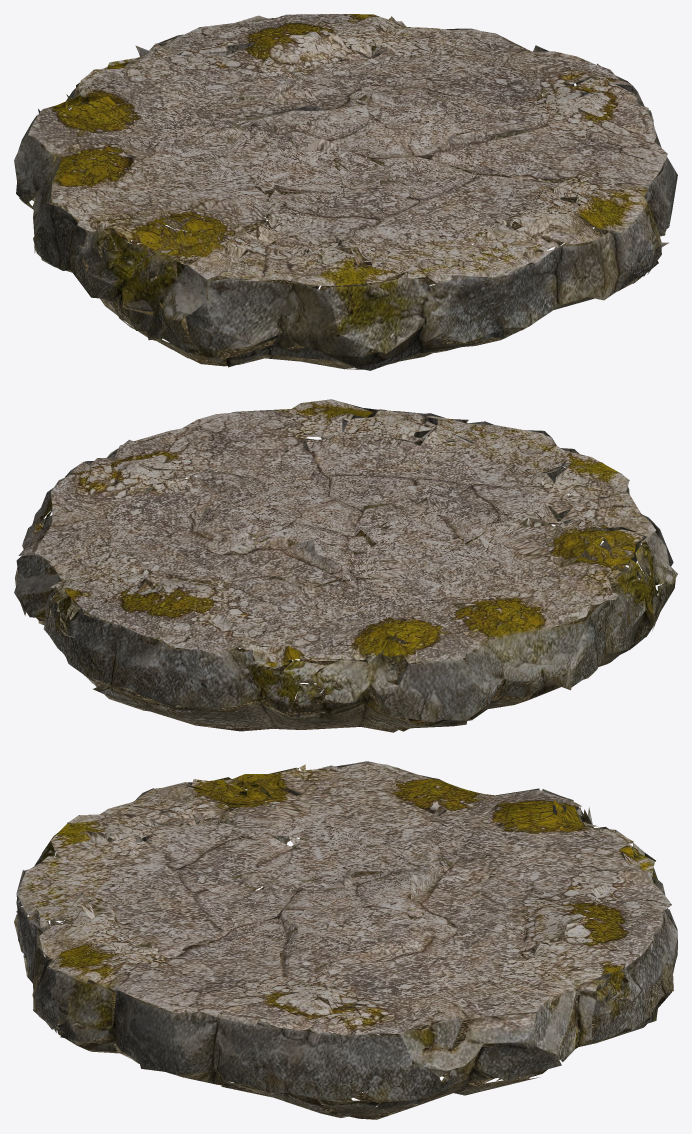
Rendered from FlatRock.fbx.
3 renders of one model, top to bottom at view 1: azimuth 30°, elevation 25°; view 2: azimuth 150°, elevation 25°; view 3: azimuth 270°, elevation 25°, orthographic. The views are drawn at different scales.
Visible parts, largest first — view 1: FlatRock; view 2: FlatRock; view 3: FlatRock.
Part boxes in pixels (bbox=[...]): FlatRock: bbox=[14, 14, 677, 370]; FlatRock: bbox=[14, 399, 677, 732]; FlatRock: bbox=[14, 761, 677, 1119].
Size of the model in its own units: 99.96 by 27.08 by 99.75.
1 material, 1 textured.
